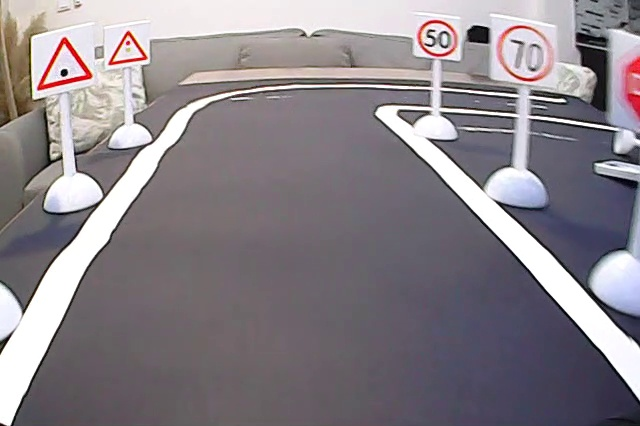green light: (29, 35, 96, 91)
red light: (105, 28, 152, 66)
speed limit 50: (417, 16, 461, 60)
speed limit 70: (496, 19, 556, 87)
